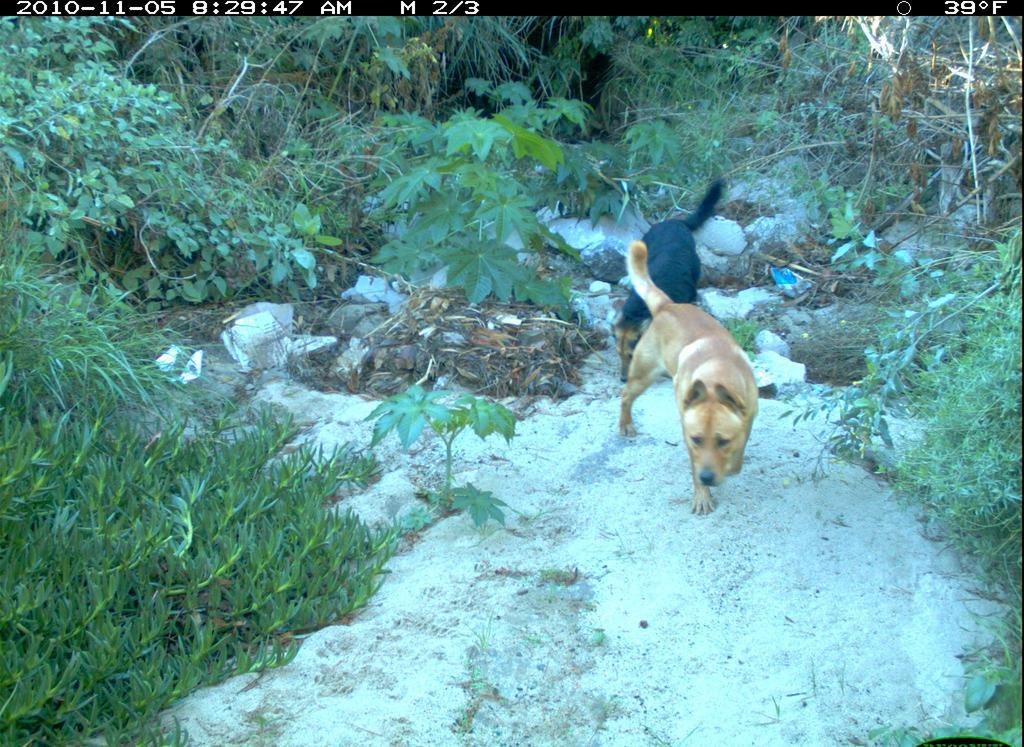dog: (587, 236, 767, 520), (609, 169, 734, 397)
